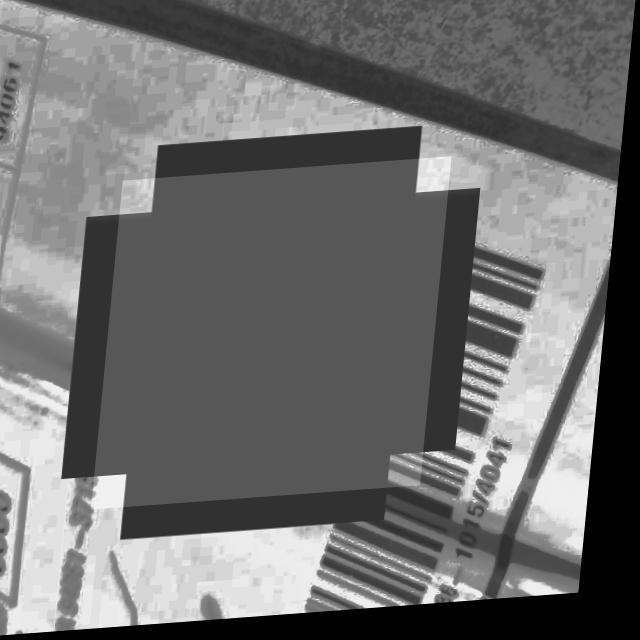qr_code: (102, 164, 456, 512)
